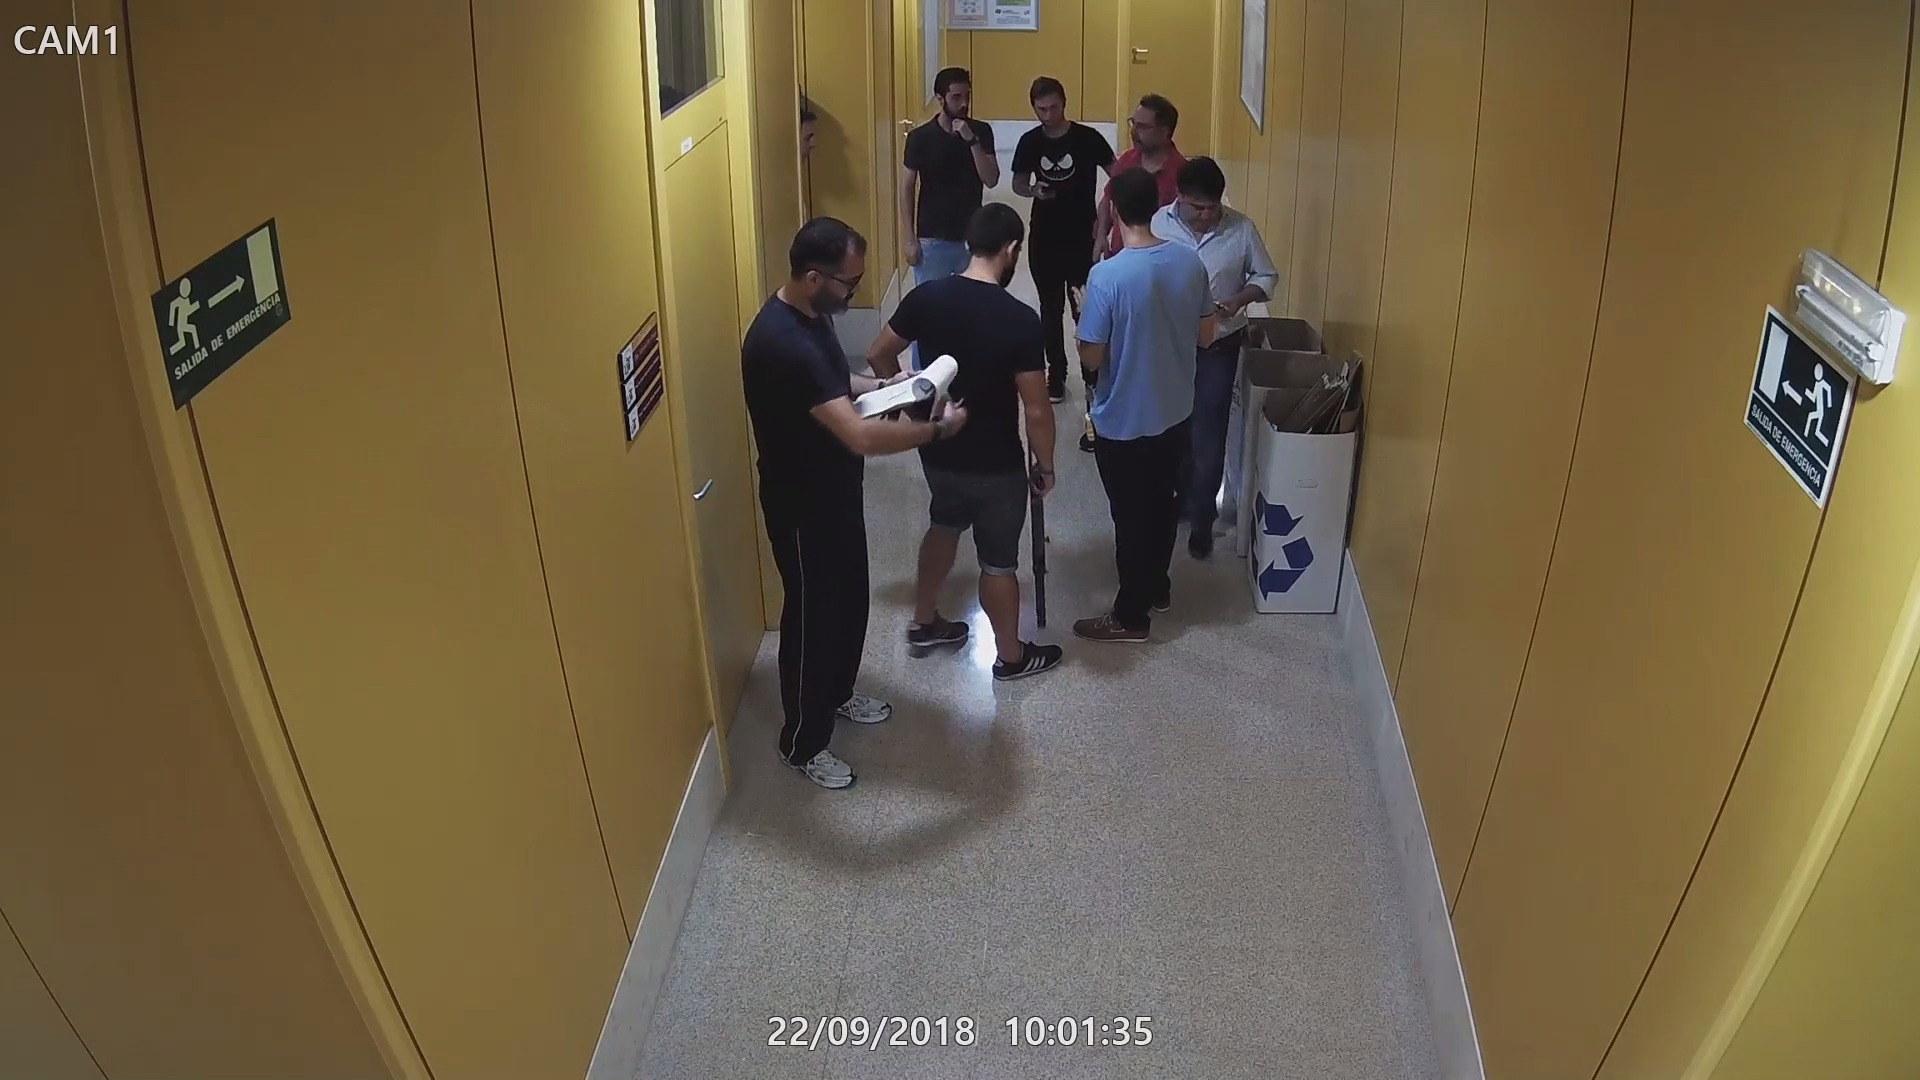Short_rifle: (1025, 460, 1052, 625)
